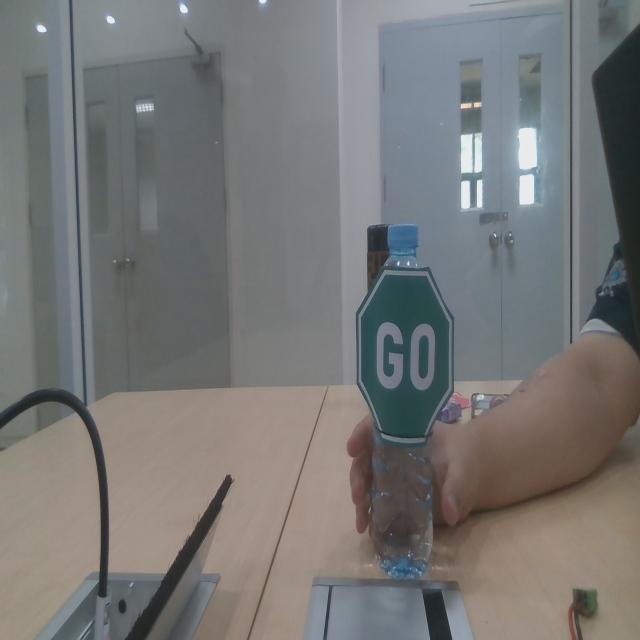Go: (353, 255, 460, 456)
